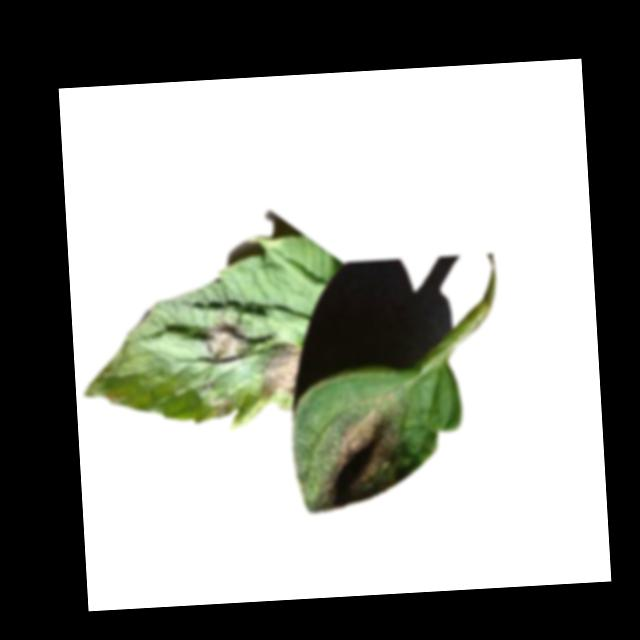Late_blight: (310, 405, 404, 513), (257, 338, 304, 399), (202, 316, 257, 366), (208, 390, 234, 420), (103, 390, 125, 407)
